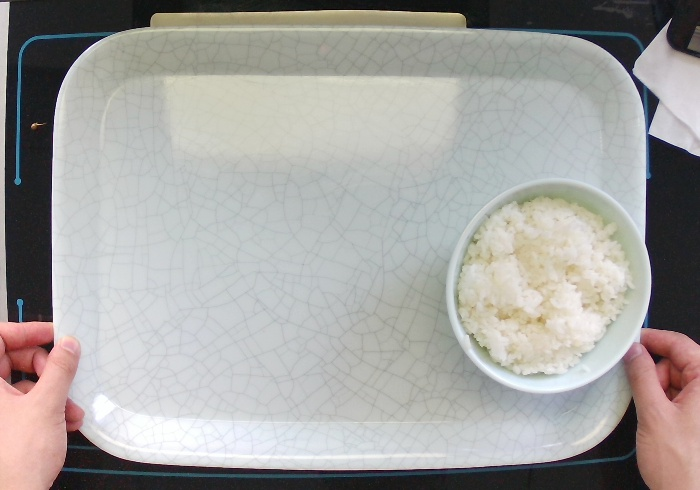JYsf-Fan_Wan: (439, 175, 655, 391)
